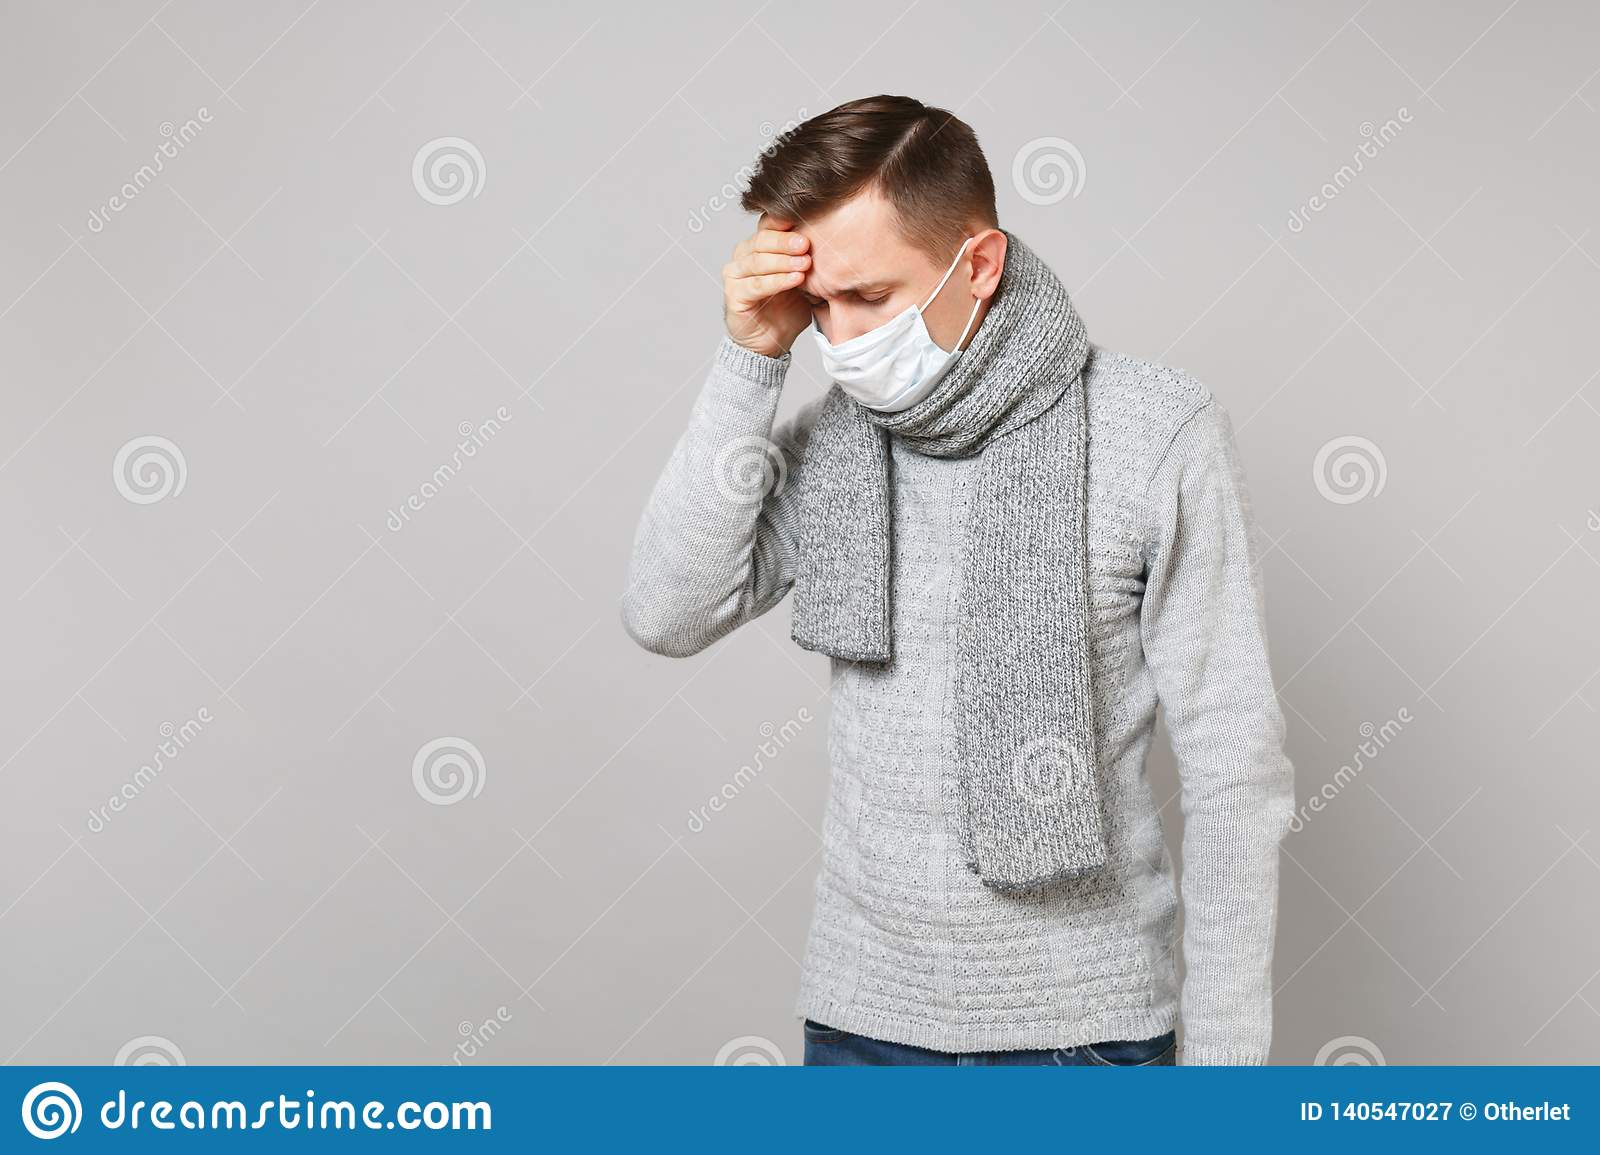mask: (807, 319, 965, 416)
